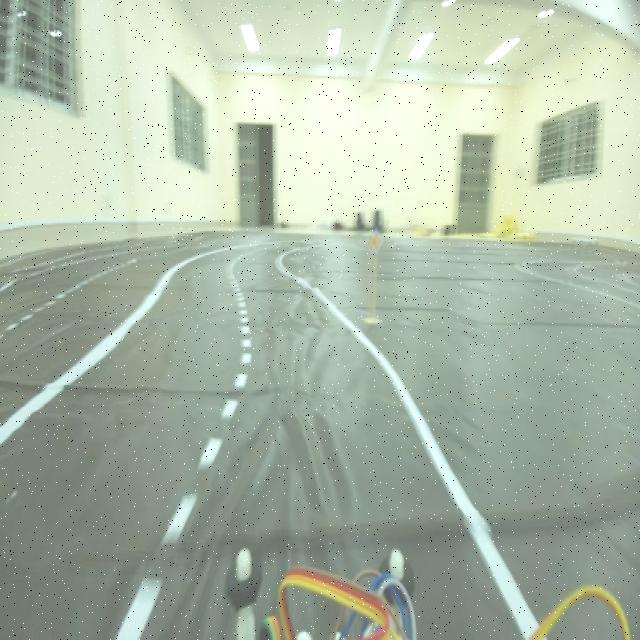priority: (364, 223, 384, 254)
